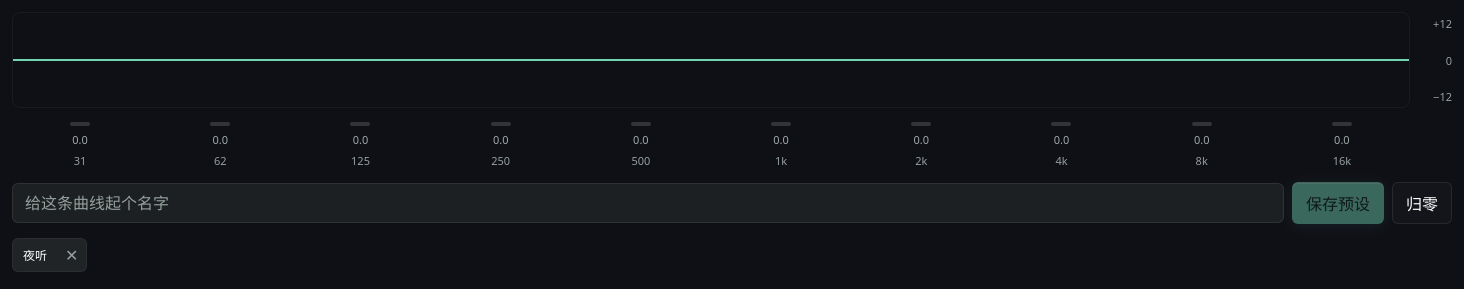
CustomEqEditor › saves under a trimmed name and reports an existing name as a replacement
In the field: (648, 203) [12,183,1284,223], type "  通勤  "
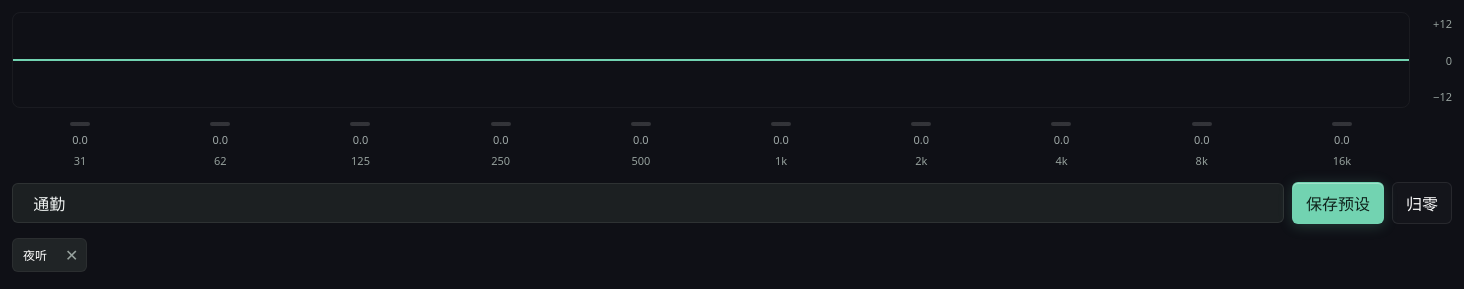
Expected: the button "保存预设" is enabled
Click the button "保存预设": (1338, 203) [1292,182,1384,224]
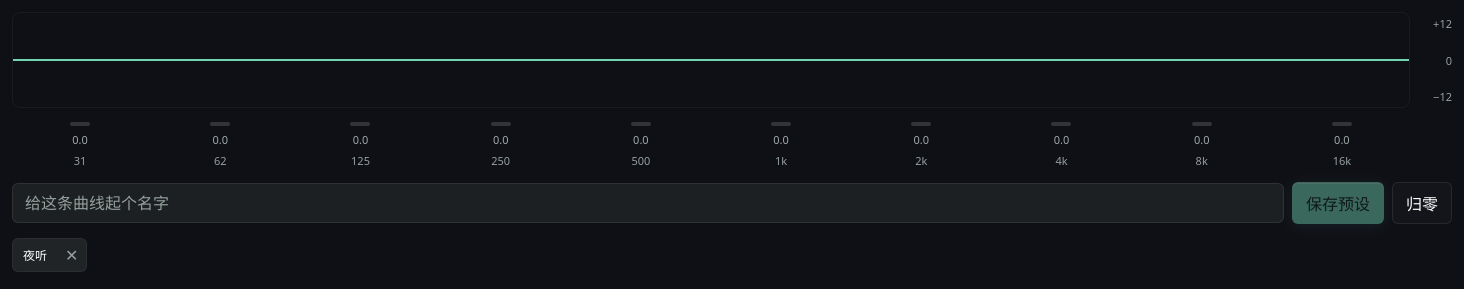
An existing name switches the button to an explicit overwrite.
In the field: (648, 203) [12,183,1284,223], type "夜听"
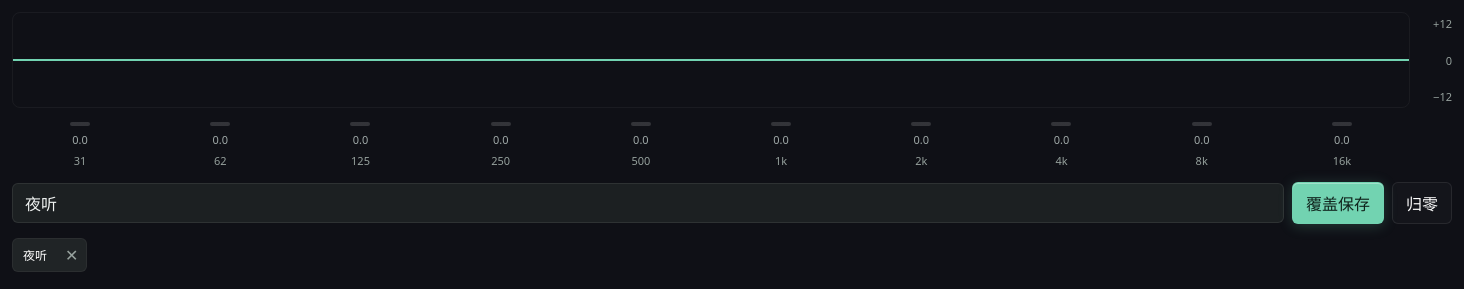
Expected: the button "覆盖保存" is shown, [1292,182,1384,224]
